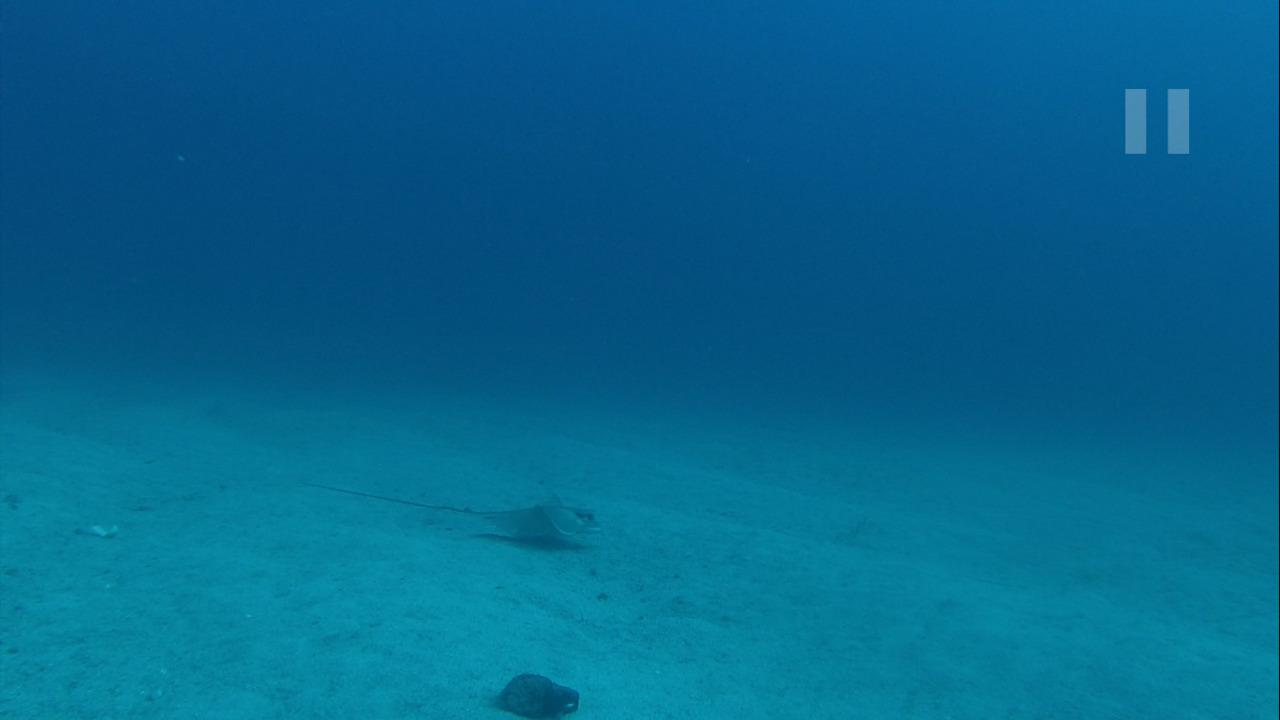myliobatis: (297, 470, 601, 548)
